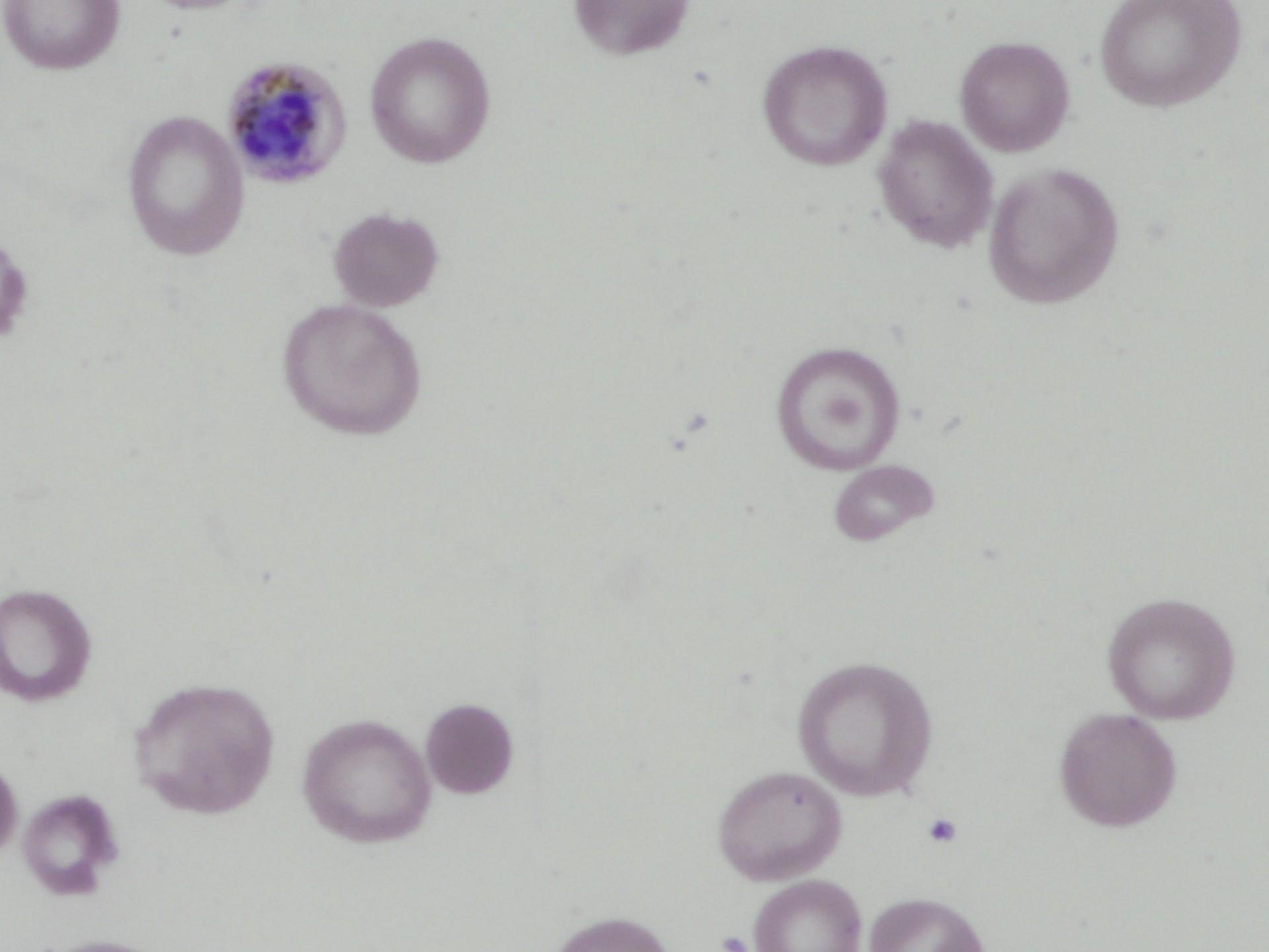Infected: (229, 62, 342, 181)
Uninfected: (987, 173, 1121, 303), (132, 692, 281, 808), (800, 666, 933, 795), (286, 309, 419, 433), (130, 115, 242, 251), (1104, 0, 1240, 109), (1108, 602, 1232, 720), (372, 38, 486, 165), (308, 725, 435, 837), (782, 353, 900, 473), (764, 51, 883, 166), (879, 126, 994, 242), (723, 774, 842, 884), (1060, 719, 1176, 826), (0, 589, 90, 698), (967, 49, 1065, 147), (335, 217, 439, 306), (423, 712, 511, 795), (837, 470, 933, 539), (762, 888, 852, 952)
